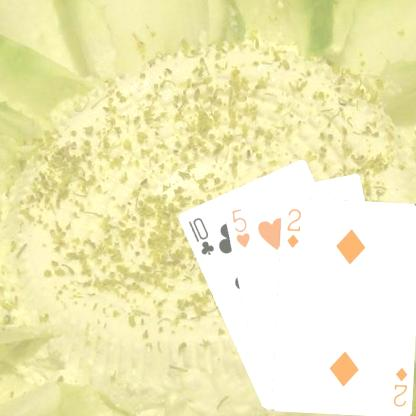10C: (186, 214, 216, 257)
2D: (390, 364, 409, 409), (283, 205, 302, 249)
5H: (228, 205, 251, 249)
